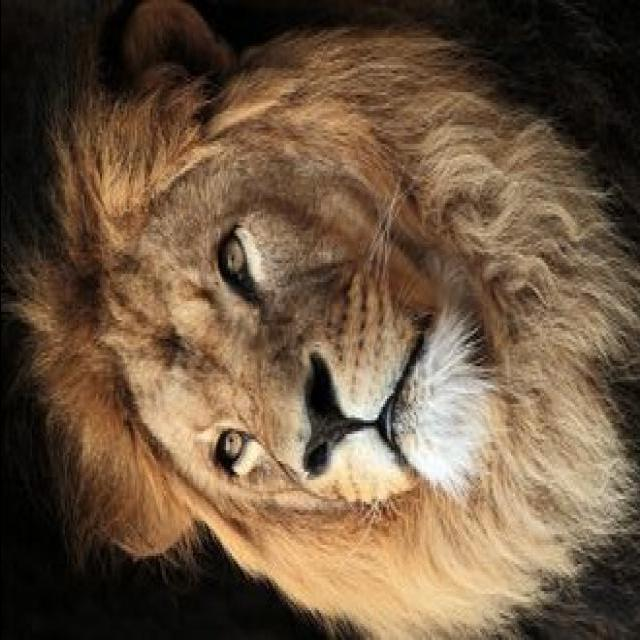lions: (5, 27, 634, 640)
